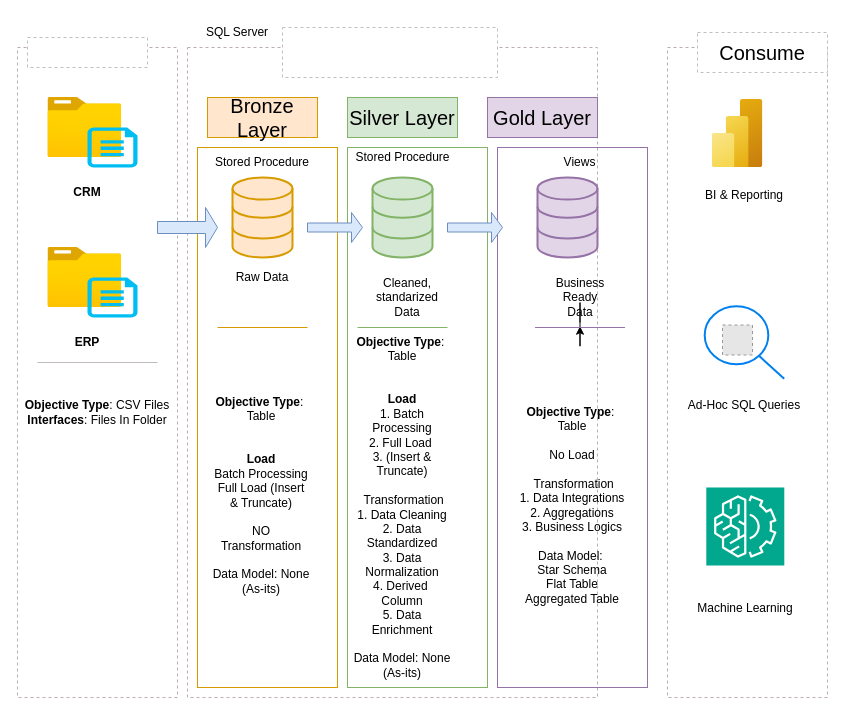
Image size: 845x715. Some labels were removed from this diagram. Grey dashed boxes stand in for pictures. The box of each missing label's shape, as (x1, y1, x2, y2) in pixels:
Data WareHouse: (282, 26, 498, 78)
Source: (26, 36, 148, 68)
